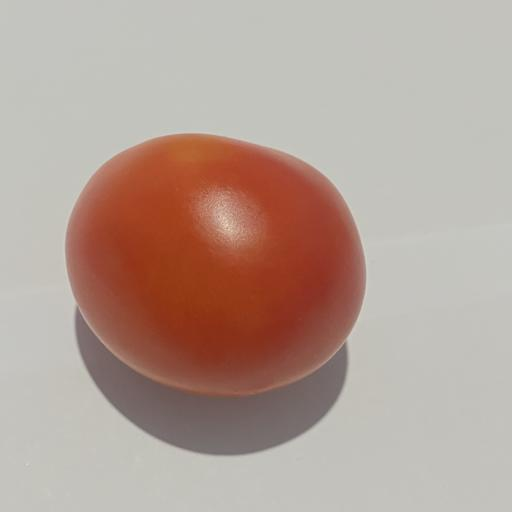ripe: (66, 134, 365, 396)
